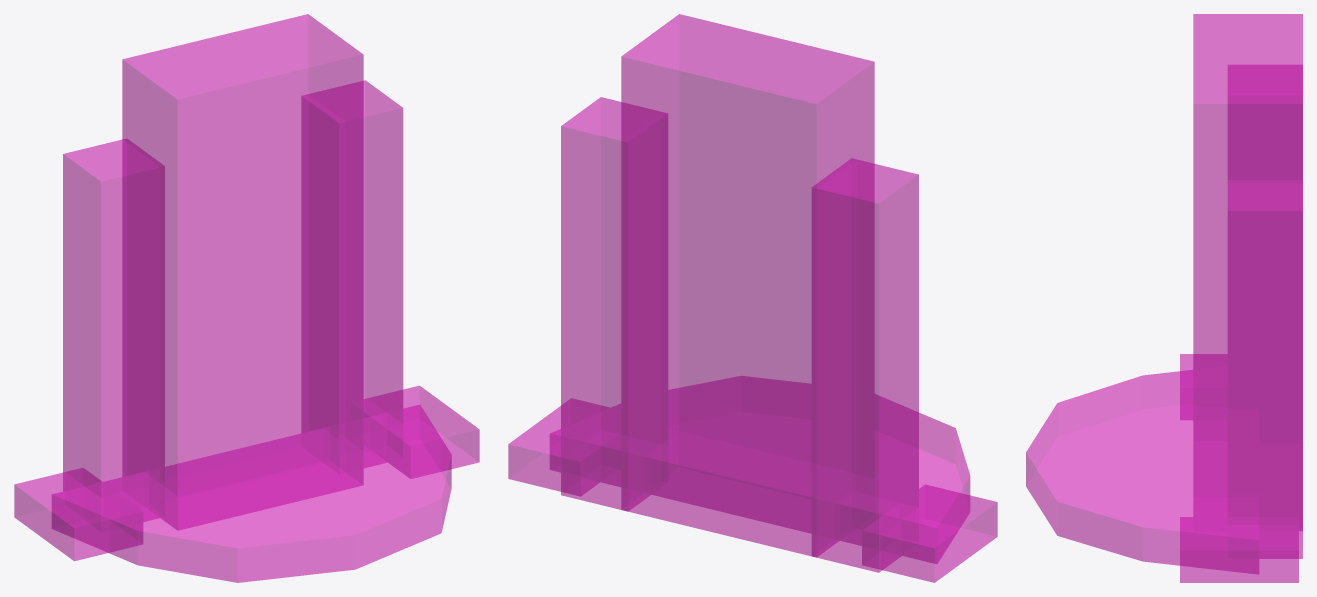
Rendered from SM_Prop_Wall_Fountain_01_Collision.fbx.
The picture shows the model from 3 angles, left to right: view 1: azimuth 30°, elevation 25°; view 2: azimuth 150°, elevation 25°; view 3: azimuth 270°, elevation 25°; orthographic projection. The views are drawn at different scales.
Parts seen in each view (by area): view 1: SM_Prop_Wall_Fountain_01_Collision; view 2: SM_Prop_Wall_Fountain_01_Collision; view 3: SM_Prop_Wall_Fountain_01_Collision.
Boxes of the visible parts, x1,y1,x2,y2 form: SM_Prop_Wall_Fountain_01_Collision: (14, 14, 479, 582); SM_Prop_Wall_Fountain_01_Collision: (508, 14, 997, 582); SM_Prop_Wall_Fountain_01_Collision: (1026, 14, 1302, 582).
Bounding box in the file's own units: 611 × 621 × 364.
